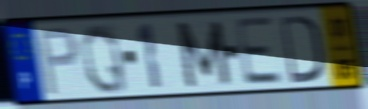1: (136, 21, 165, 91)
D: (278, 12, 324, 86)
E: (232, 14, 285, 88)
M: (173, 19, 234, 90)
P: (36, 24, 81, 98)
Q: (79, 21, 130, 97)
